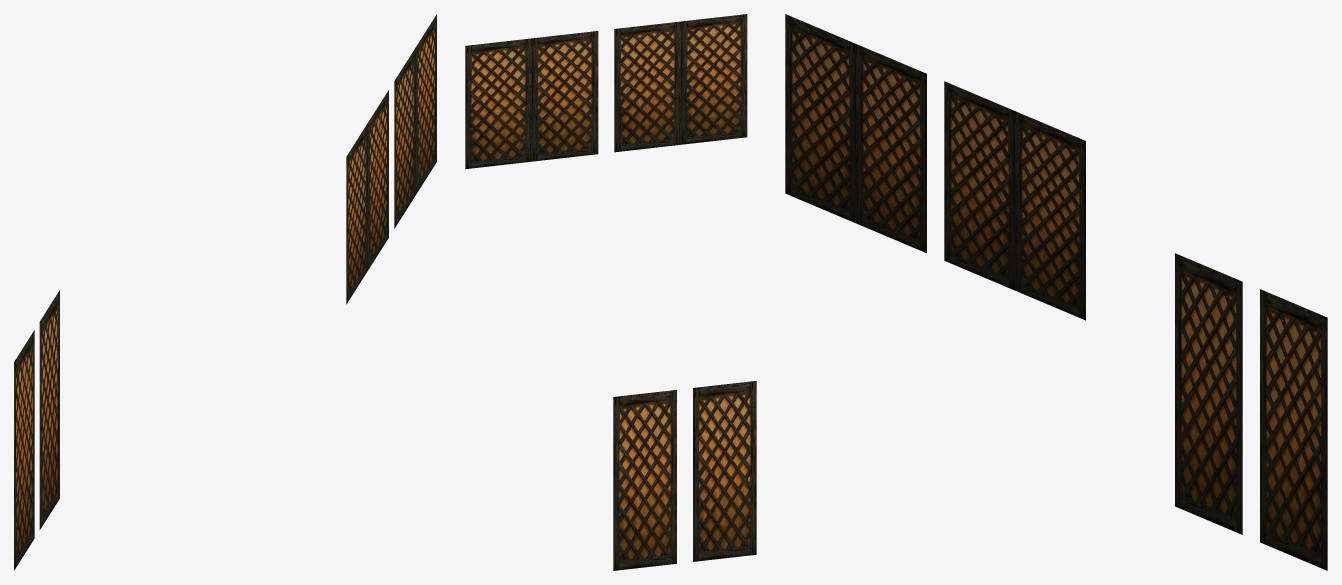
The model's file is LAKETOWN_EXTERIOR_PS_LT_WINDOWS1900.fbx.
3 renders of one model, left to right at view 1: azimuth 30°, elevation 25°; view 2: azimuth 150°, elevation 25°; view 3: azimuth 270°, elevation 25°, orthographic. The views are drawn at different scales.
Visible parts, largest first — view 1: LAKETOWN_EXTERIOR_PS_LT_WINDOWS1900; view 2: LAKETOWN_EXTERIOR_PS_LT_WINDOWS1900; view 3: LAKETOWN_EXTERIOR_PS_LT_WINDOWS1900.
Part boxes in pixels (bbox=[...]): LAKETOWN_EXTERIOR_PS_LT_WINDOWS1900: bbox=[14, 14, 436, 570]; LAKETOWN_EXTERIOR_PS_LT_WINDOWS1900: bbox=[465, 14, 756, 570]; LAKETOWN_EXTERIOR_PS_LT_WINDOWS1900: bbox=[785, 14, 1327, 570].
Bounding box in the file's own units: 40364 × 48880 × 40438.
Materials: 1 (1 with a texture image).
